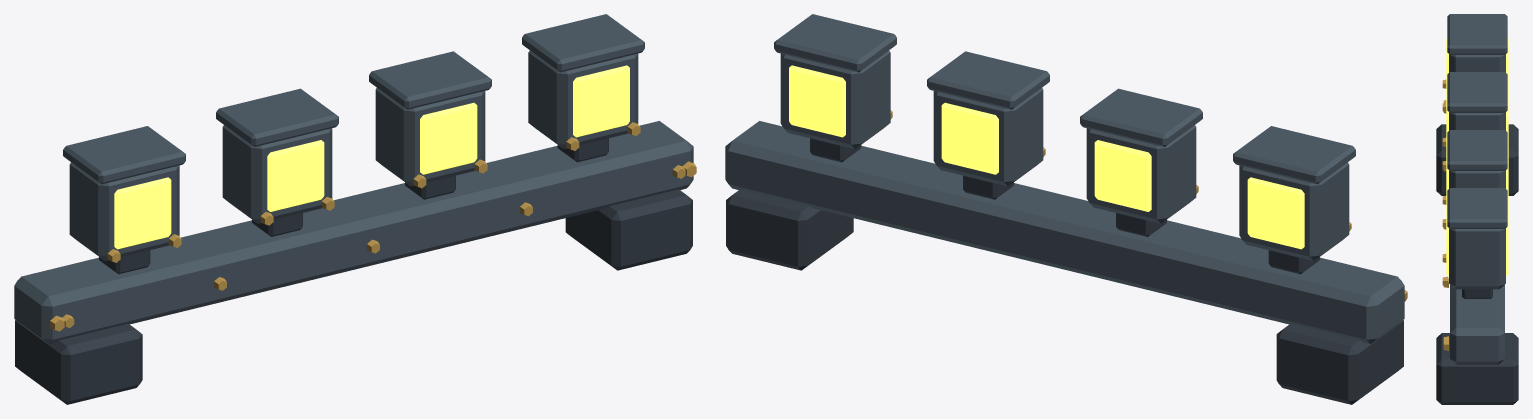
The model's file is Terminal_ReadyLights.fbx.
3 renders of one model, left to right at view 1: azimuth 30°, elevation 25°; view 2: azimuth 150°, elevation 25°; view 3: azimuth 270°, elevation 25°, orthographic. The views are drawn at different scales.
Visible parts, largest first — view 1: Frame, FrameDark, Light3, Light1, Light2, Light4, Brass; view 2: Frame, FrameDark, Light3, Light1, Light2, Light4; view 3: Frame, FrameDark, Brass, Light4, Light1, Light2, Light3.
Part boxes in pixels (x1=…): Frame: x1=14, y1=14, x2=693, y2=344; FrameDark: x1=15, y1=138, x2=692, y2=404; Light3: x1=420, y1=102, x2=477, y2=174; Light1: x1=114, y1=177, x2=171, y2=249; Light2: x1=267, y1=140, x2=324, y2=211; Light4: x1=573, y1=65, x2=629, y2=137; Brass: x1=50, y1=122, x2=696, y2=331; Frame: x1=725, y1=14, x2=1404, y2=344; FrameDark: x1=726, y1=138, x2=1403, y2=404; Light3: x1=941, y1=102, x2=998, y2=174; Light1: x1=1247, y1=177, x2=1304, y2=249; Light2: x1=1094, y1=140, x2=1151, y2=211; Light4: x1=789, y1=65, x2=845, y2=137; Frame: x1=1447, y1=14, x2=1507, y2=364; FrameDark: x1=1436, y1=124, x2=1518, y2=404; Brass: x1=1442, y1=79, x2=1448, y2=350; Light4: x1=1446, y1=212, x2=1508, y2=275; Light1: x1=1446, y1=38, x2=1508, y2=96; Light2: x1=1446, y1=96, x2=1508, y2=154; Light3: x1=1446, y1=154, x2=1508, y2=212.
Size of the model in its own units: 6.4 by 2.06 by 0.9.
